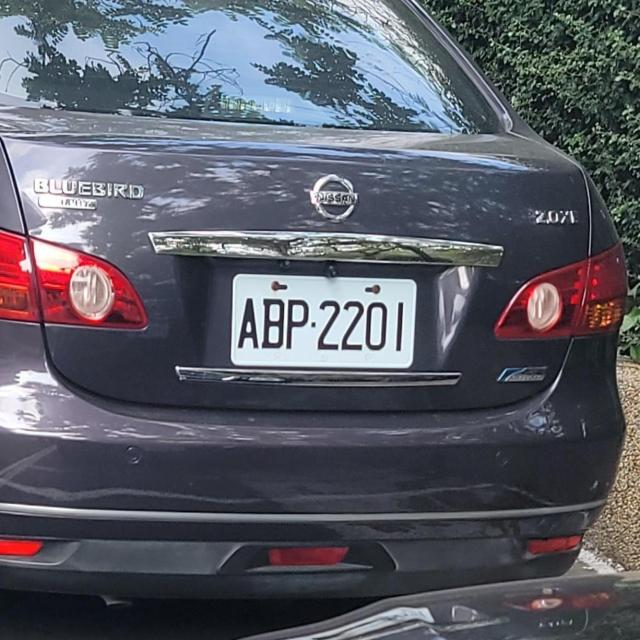W: (220, 268, 423, 376)
